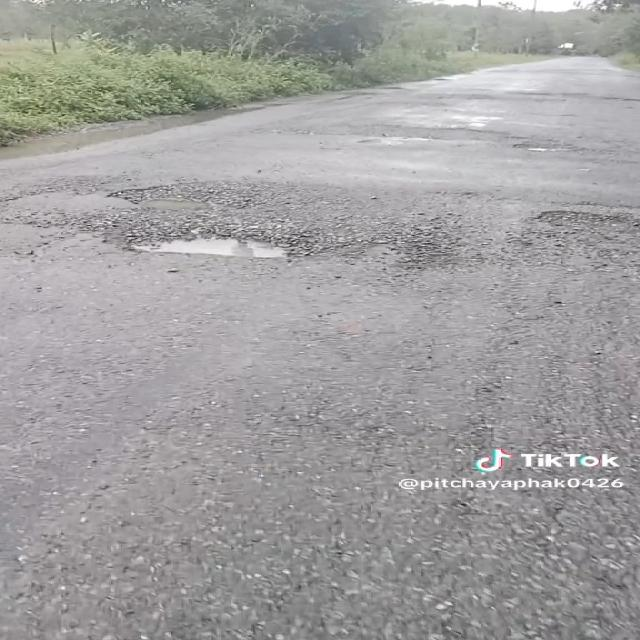Poth-hole: (121, 209, 352, 302)
